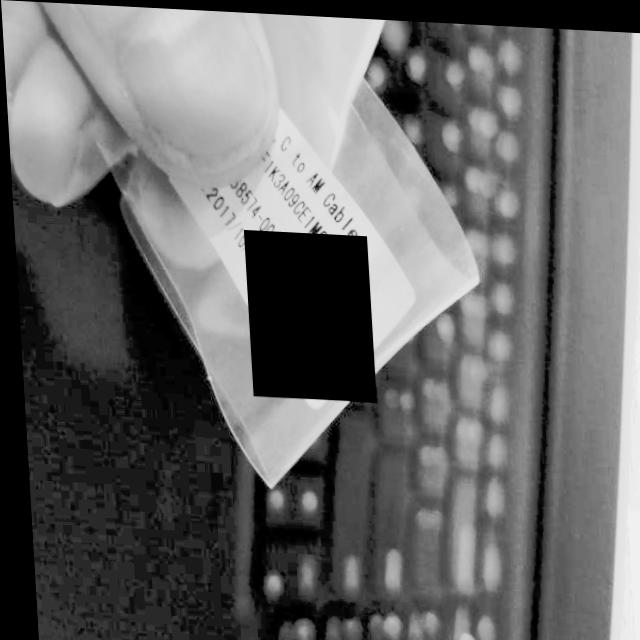qr_code: (240, 227, 371, 398)
